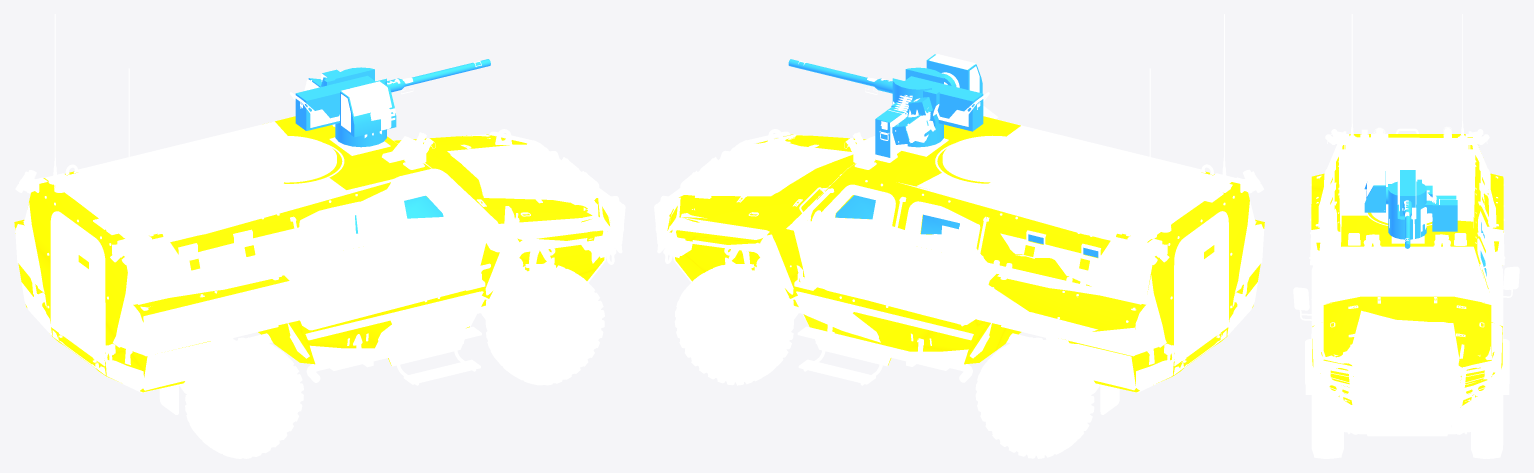
Rendered from CobraII.gltf.
The picture shows the model from 3 angles, left to right: view 1: azimuth 30°, elevation 25°; view 2: azimuth 150°, elevation 25°; view 3: azimuth 270°, elevation 25°; orthographic projection. The views are drawn at different scales.
Parts seen in each view (by area): view 1: 48_4, SM_Cobra_II_Col, 48_3, 48_5, SK_Cobra_II_RWS_M2_Gun_Col_35, 48, 48_11, SK_Cobra_II_RWS_M2_Turret_Col_32, 48_1, 48_8, SM_Cobra_II_Col_1; view 2: 48_4, SM_Cobra_II_Col, 48_3, 48_5, SK_Cobra_II_RWS_M2_Gun_Col_35, 48, 48_11, SK_Cobra_II_RWS_M2_Turret_Col_32, SM_Cobra_II_Col_1, 48_1; view 3: 48_4, 48_5, SM_Cobra_II_Col, 48_3, 48_8, SK_Cobra_II_RWS_M2_Gun_Col_35, SK_Cobra_II_RWS_M2_Turret_Col_32, 48_11, 48_9.
Boxes of the visible parts, box(x1,y1,x2,y2) form: 48_4: box(15, 121, 616, 392); SM_Cobra_II_Col: box(14, 116, 609, 392); 48_3: box(185, 264, 604, 458); 48_5: box(15, 14, 625, 414); SK_Cobra_II_RWS_M2_Gun_Col_35: box(295, 59, 490, 137); 48: box(234, 136, 336, 183); 48_11: box(290, 60, 481, 135); SK_Cobra_II_RWS_M2_Turret_Col_32: box(323, 67, 386, 147); 48_1: box(249, 141, 307, 170); 48_8: box(181, 215, 355, 258); SM_Cobra_II_Col_1: box(355, 195, 443, 233); 48_4: box(663, 119, 1264, 392); SM_Cobra_II_Col: box(667, 116, 1264, 392); 48_3: box(674, 264, 1094, 458); 48_5: box(654, 14, 1263, 414); SK_Cobra_II_RWS_M2_Gun_Col_35: box(788, 54, 983, 157); 48: box(942, 135, 1044, 183); 48_11: box(798, 54, 989, 157); SK_Cobra_II_RWS_M2_Turret_Col_32: box(891, 67, 943, 147); SM_Cobra_II_Col_1: box(835, 195, 1098, 257); 48_1: box(971, 141, 1030, 170); 48_4: box(1309, 133, 1505, 436); 48_5: box(1293, 14, 1519, 435); SM_Cobra_II_Col: box(1311, 134, 1503, 407); 48_3: box(1311, 265, 1503, 458); 48_8: box(1330, 222, 1484, 291); SK_Cobra_II_RWS_M2_Gun_Col_35: box(1364, 170, 1457, 248); SK_Cobra_II_RWS_M2_Turret_Col_32: box(1388, 179, 1432, 239); 48_11: box(1364, 167, 1458, 242); 48_9: box(1389, 187, 1432, 242).
Bounding box in the file's own units: 5.12 × 3.63 × 2.52.
